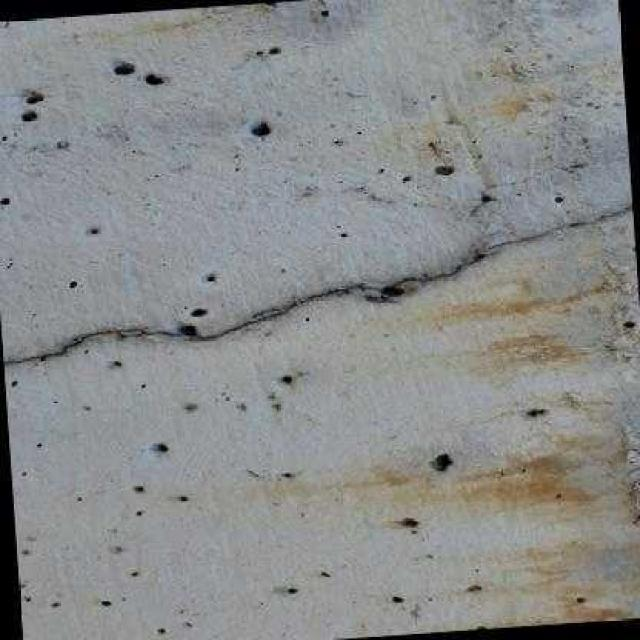D00: (2, 204, 633, 365)
